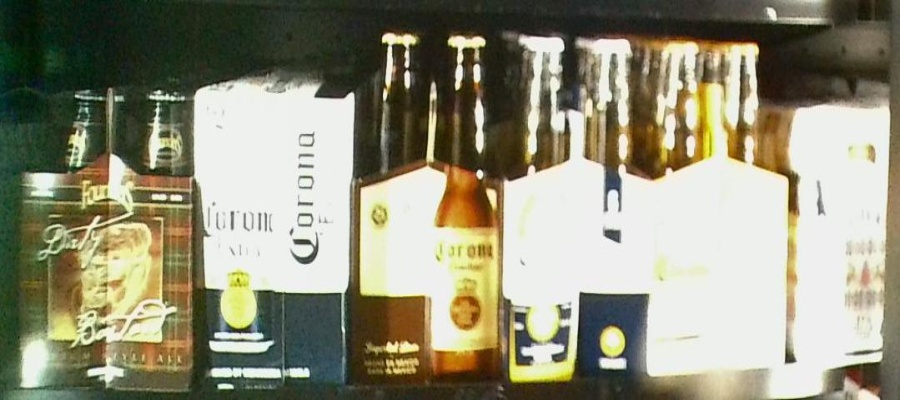bottle: (1, 84, 193, 389), (355, 28, 503, 389), (502, 39, 649, 379), (194, 81, 347, 391), (654, 37, 787, 370), (786, 104, 885, 363)
